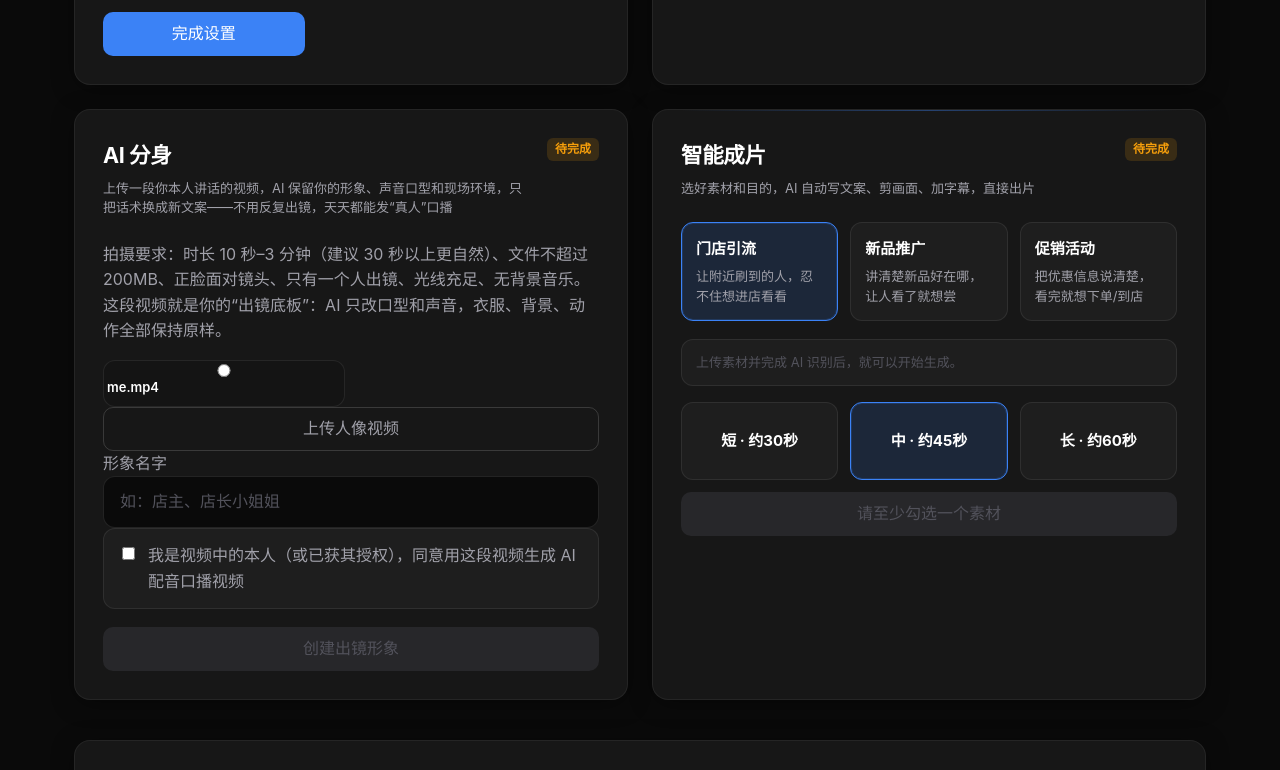
Scenario: AI video assistant dashboard › avatar creation 402: shows the centered points toast and keeps the form state
(page scrolled)
Click the radio button with aria-label "选择人像视频 me.mp4" at [224, 370], box [104,364,344,377]
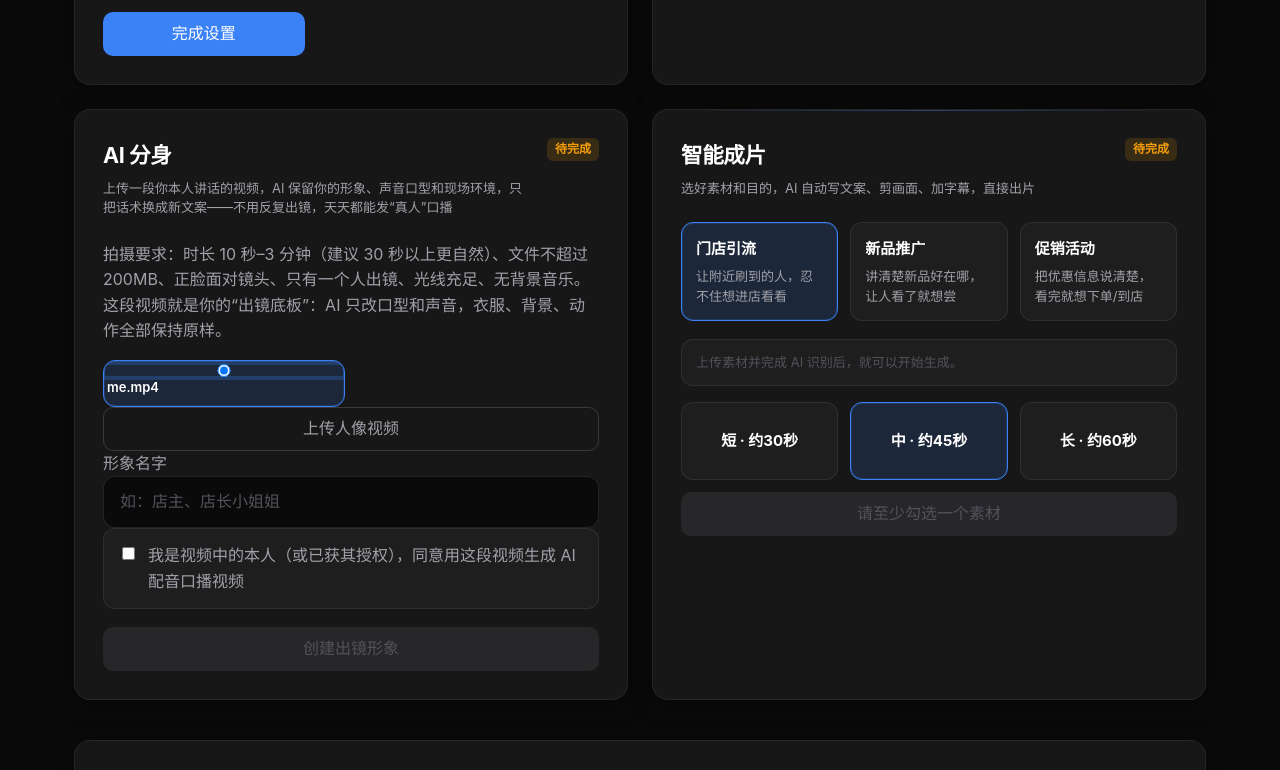
Type "店主" into the field labelled "形象名字" at [351, 502], box [103,476,599,528]
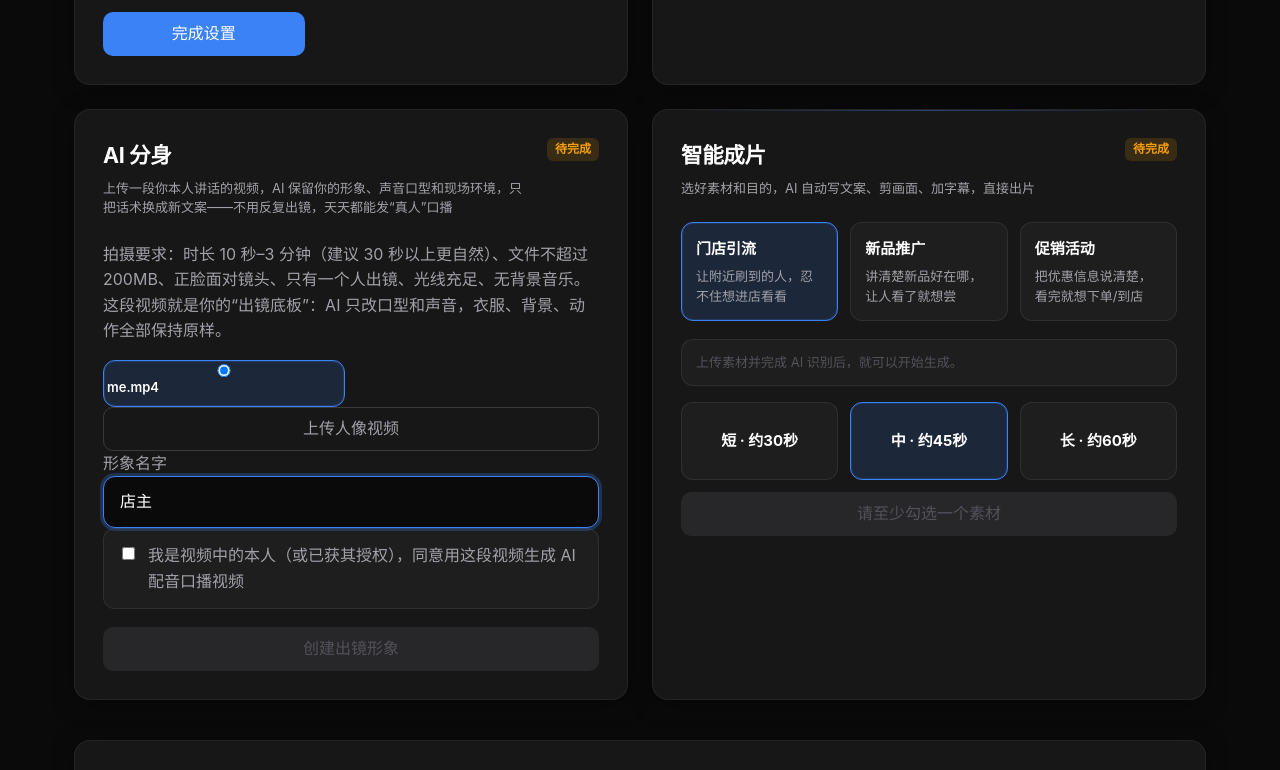
Click the checkbox labelled "我是视频中的本人（或已获其授权），同意用这段视频生成 AI 配音口播视频" at [128, 554], box [122,547,135,560]
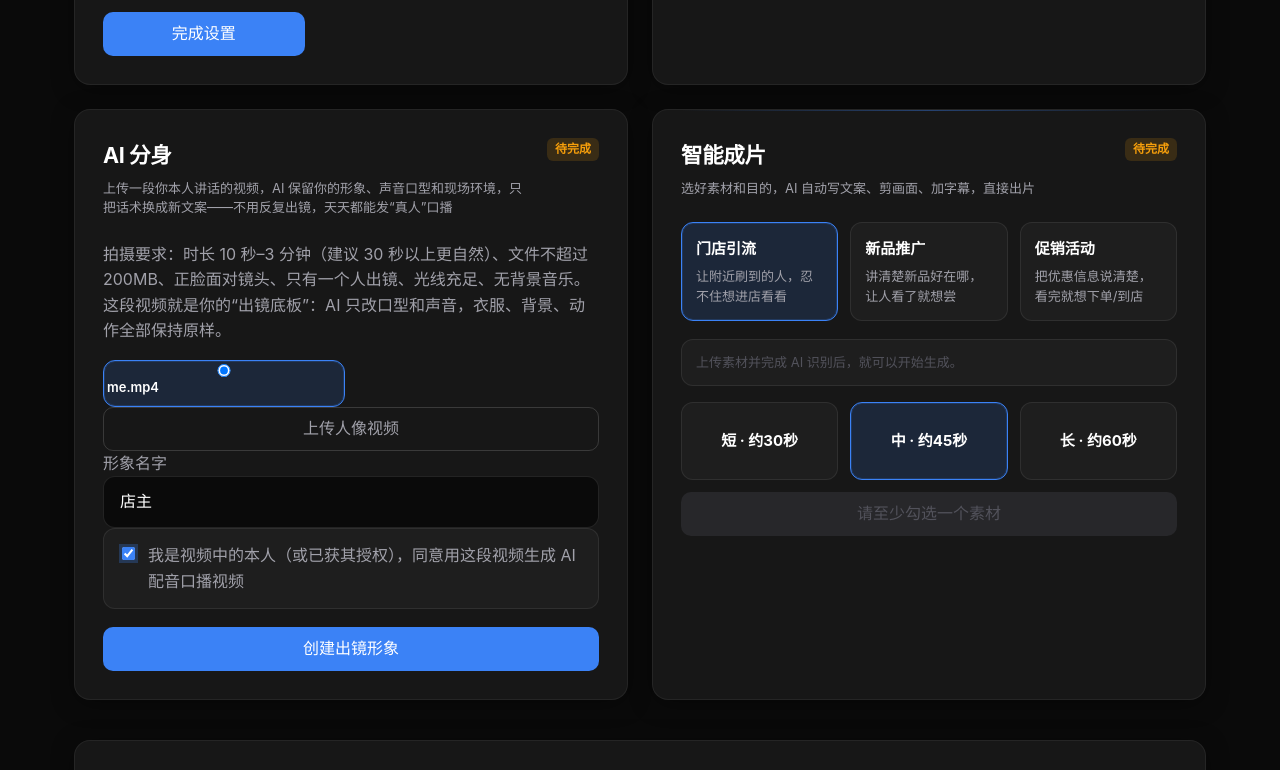
Click the button "创建出镜形象" at [351, 649], box [103,627,599,671]
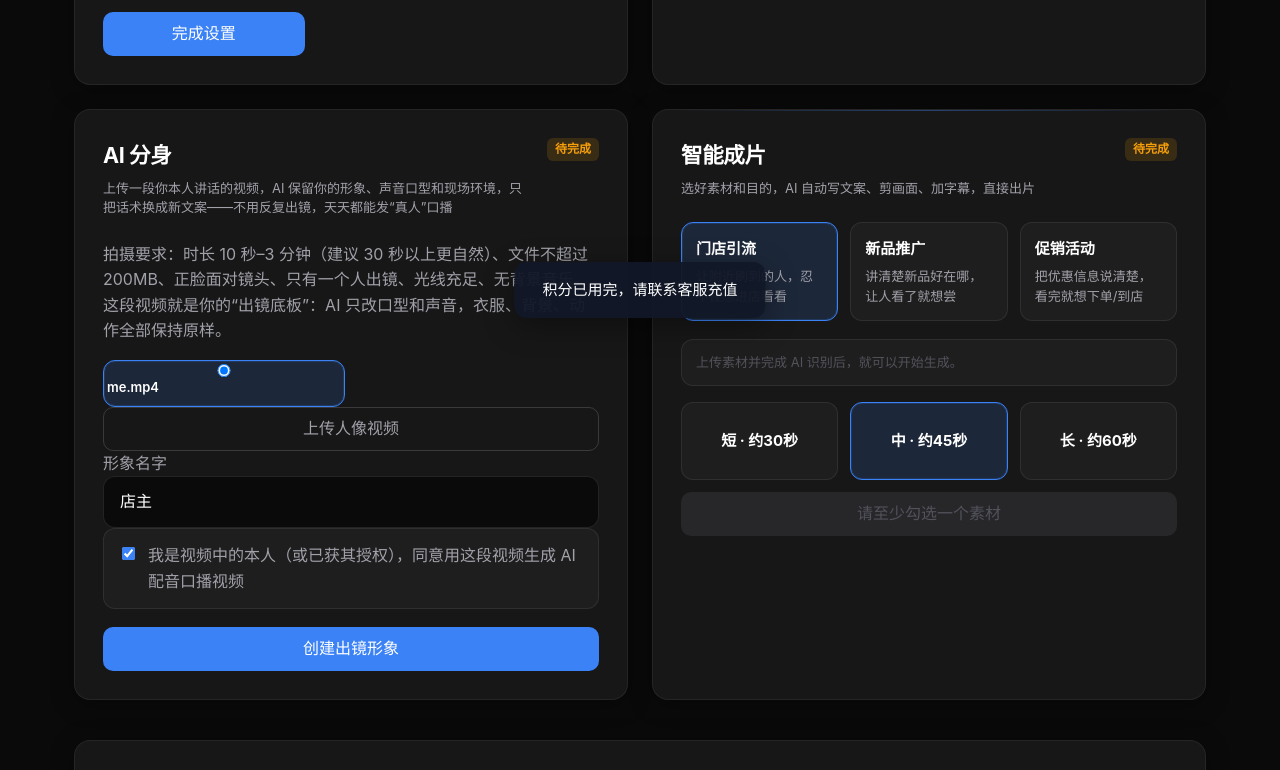
expect the message does not show "创建出镜形象失败": met, box [514,262,766,318]
expect the checkbox labelled "我是视频中的本人（或已获其授权），同意用这段视频生成 AI 配音口播视频" is checked: met, box [122,547,135,560]
expect the message reads "积分已用完，请联系客服充值": met, box [542,280,738,299]
